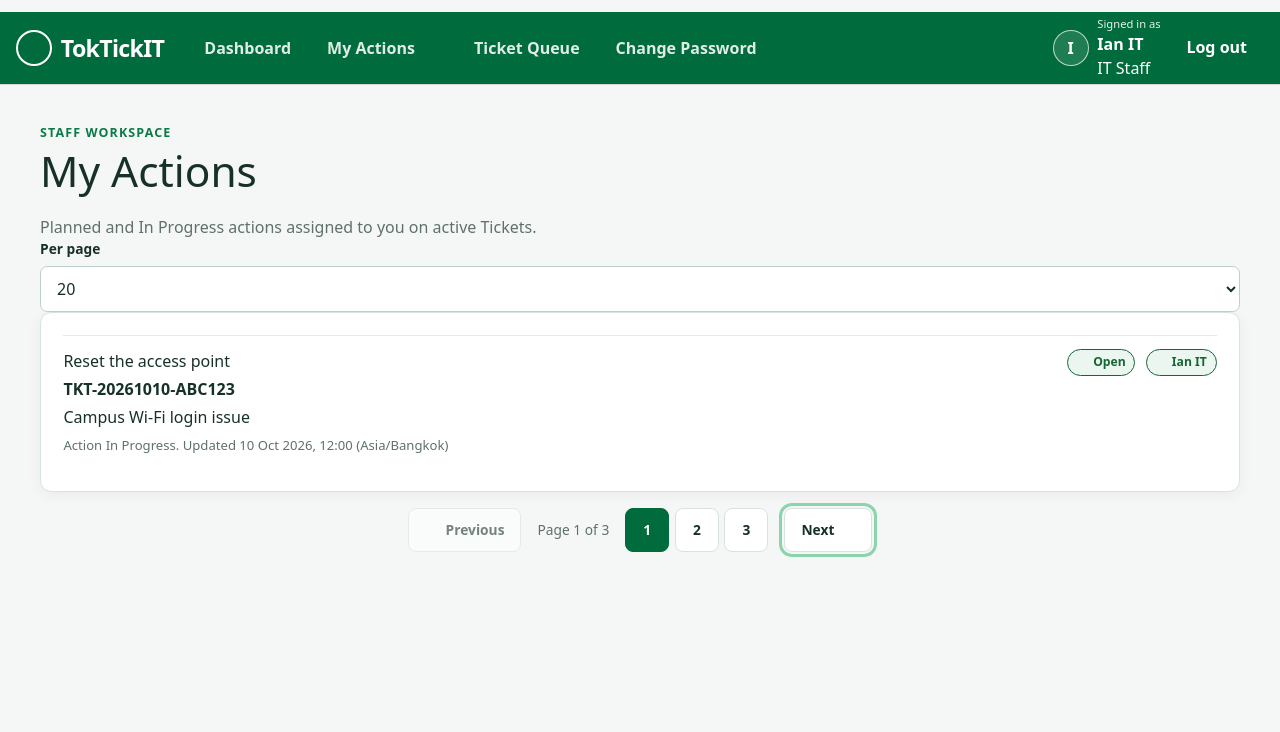
Test: Staff My Actions UI › keeps focus on the clicked pagination control while the next page loads
Click the button "Next" at (828, 530), box [784,508,872,552]
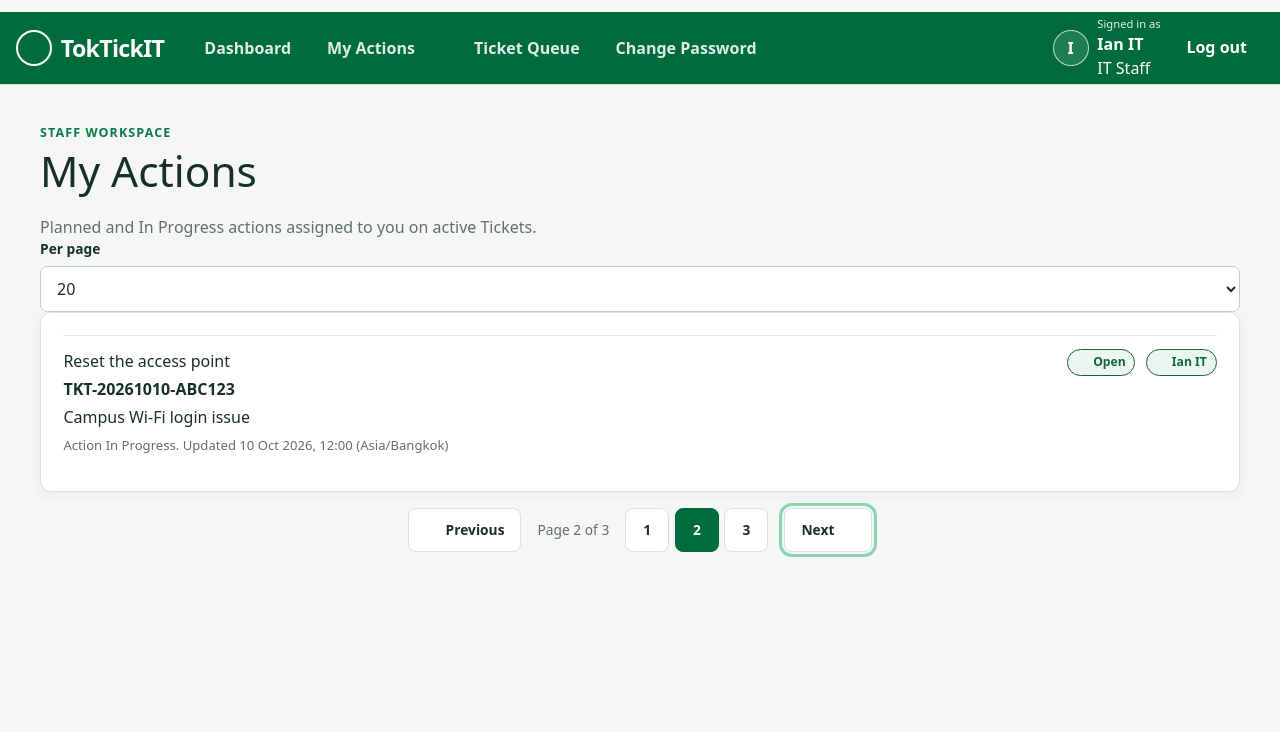
Now the text "Page 2 of 3" is shown, box [538,520,609,540]
